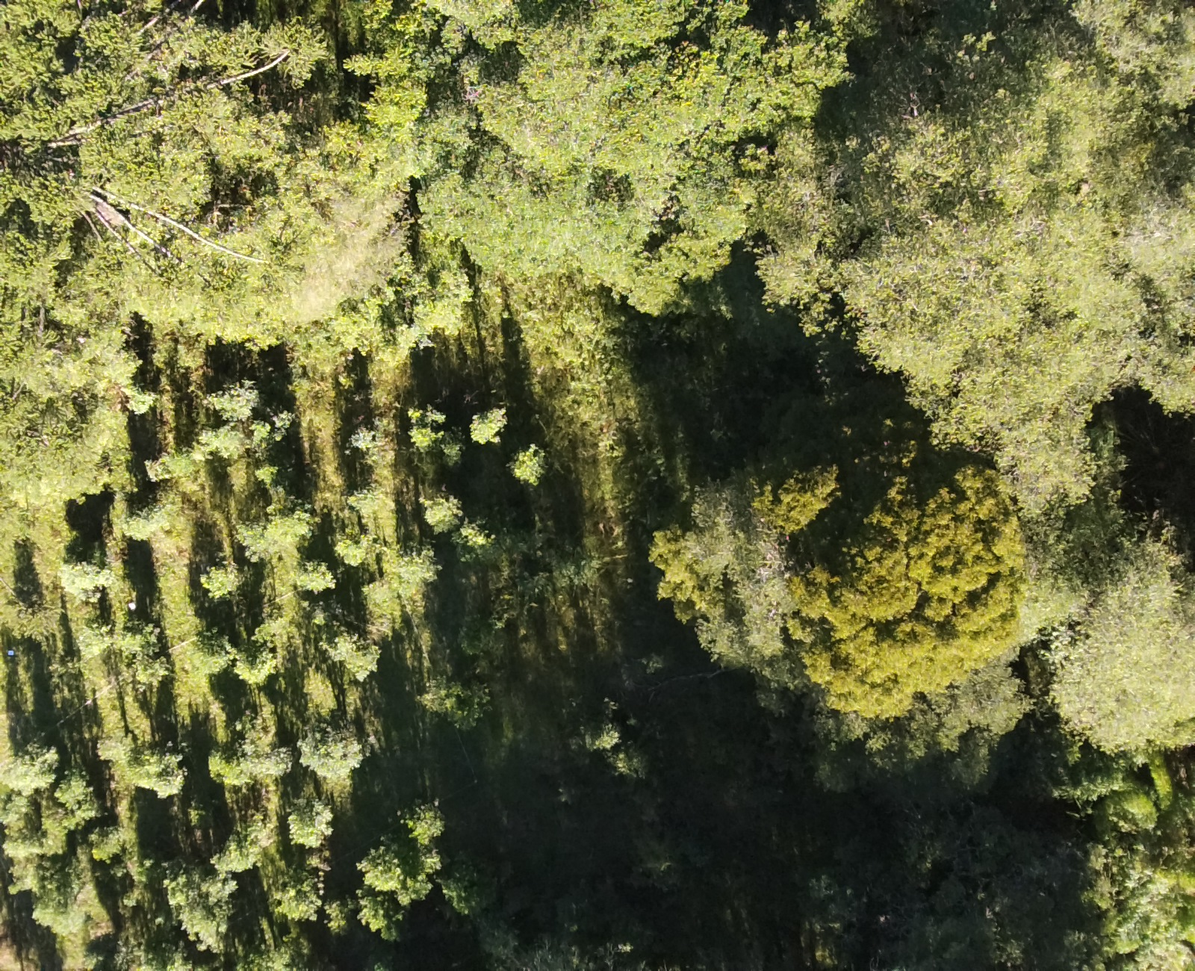erva: (230, 500, 299, 562), (295, 725, 364, 787), (214, 814, 273, 874), (0, 733, 55, 794), (50, 555, 112, 602), (357, 831, 401, 896), (187, 422, 247, 469), (280, 798, 331, 850), (236, 739, 291, 785), (188, 552, 245, 596), (139, 761, 196, 804), (416, 488, 464, 539), (395, 793, 447, 839), (463, 395, 507, 447), (503, 438, 547, 488), (30, 905, 90, 940), (111, 498, 166, 536), (85, 728, 140, 764), (232, 647, 282, 686), (184, 635, 229, 678), (205, 377, 254, 416), (343, 417, 385, 461), (285, 563, 339, 597), (91, 818, 137, 857), (330, 520, 370, 563), (48, 772, 93, 810), (310, 624, 357, 660), (346, 477, 387, 518), (345, 647, 384, 687), (119, 615, 159, 653), (77, 617, 113, 656), (389, 877, 438, 905), (405, 422, 442, 456), (411, 849, 447, 877), (397, 392, 423, 421), (254, 410, 271, 453), (420, 402, 449, 427)
